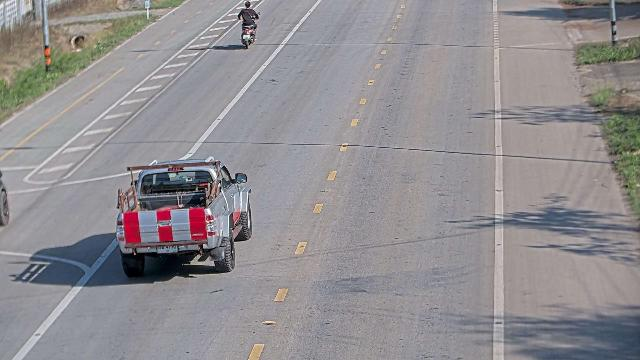motorcycle: (231, 2, 265, 51)
pickup-truck: (114, 156, 253, 278)
